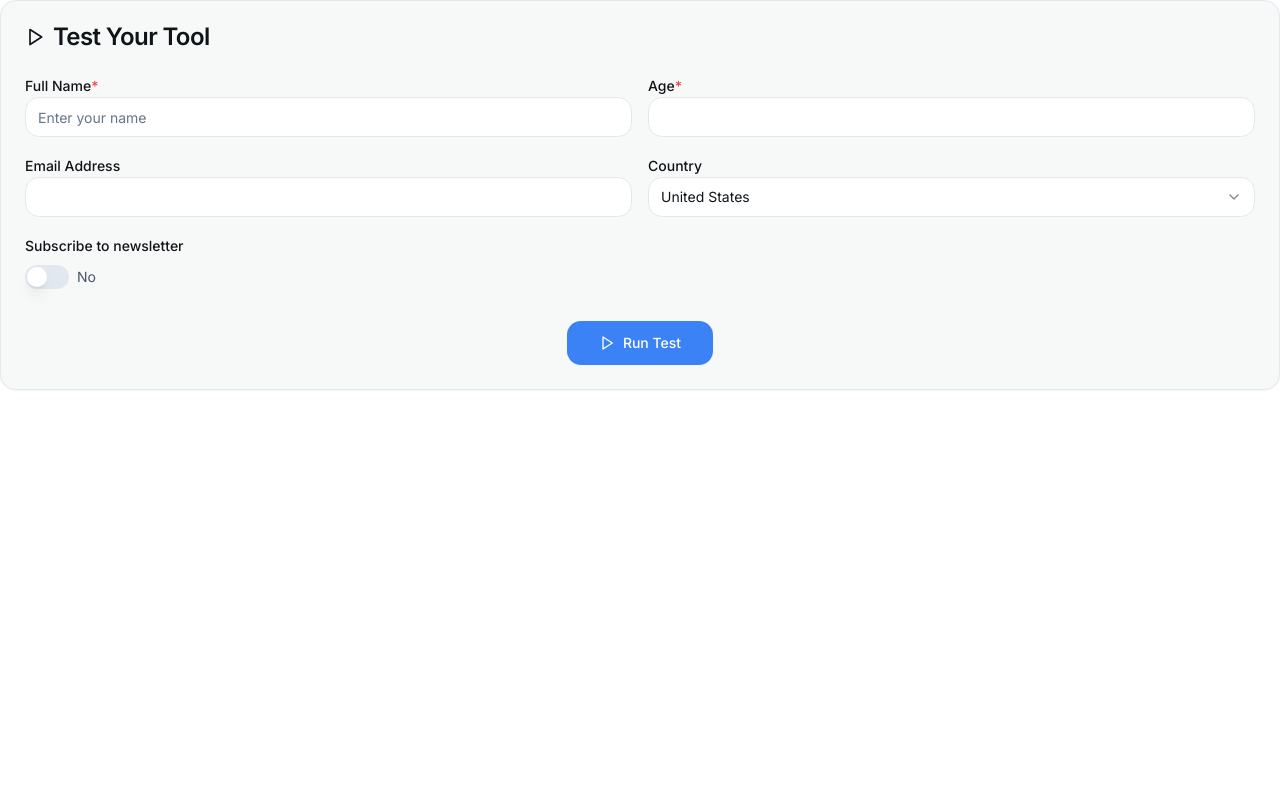
Test case: ToolTestRunner › Test Execution › should handle test failures gracefully
// Fill required fields
Type "John Doe" into the field with placeholder "Enter your name" at (328, 117), box [25,97,632,137]
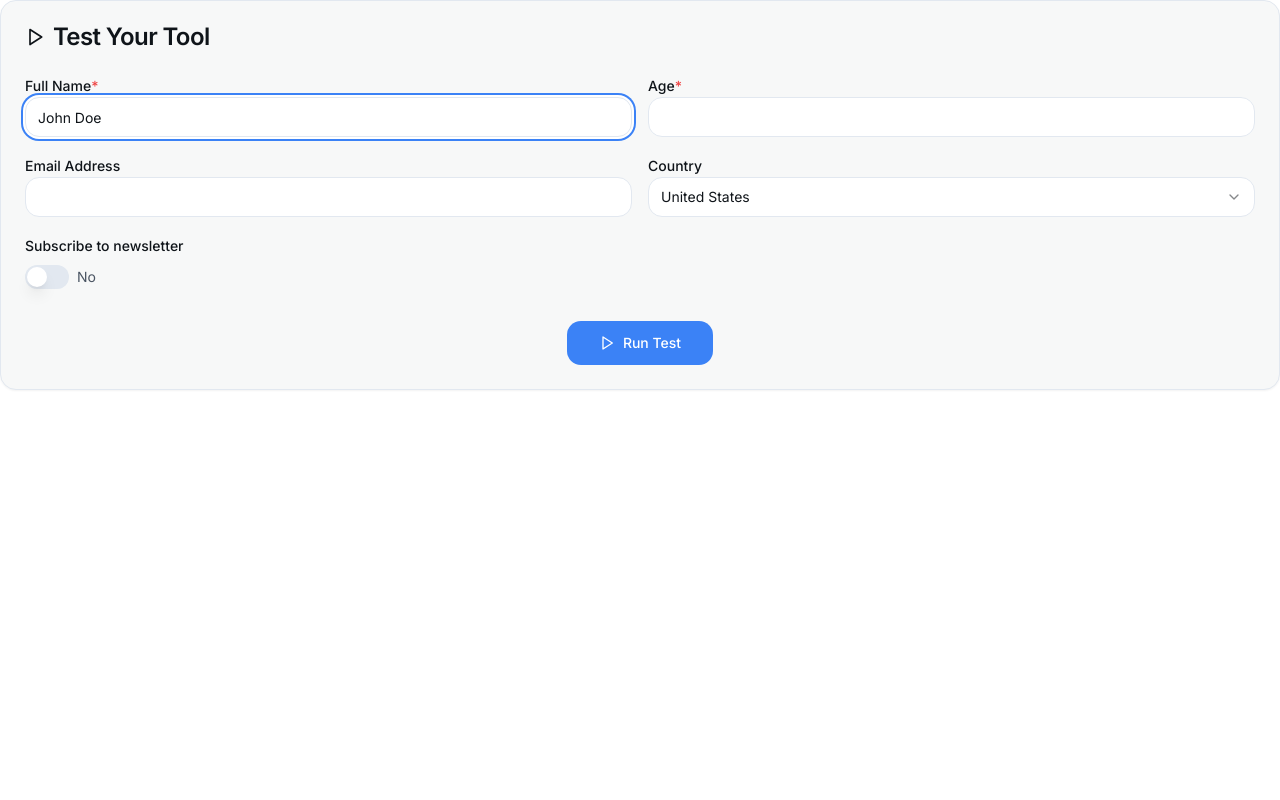
Type "25" into the number field at (952, 117), box [648,97,1255,137]
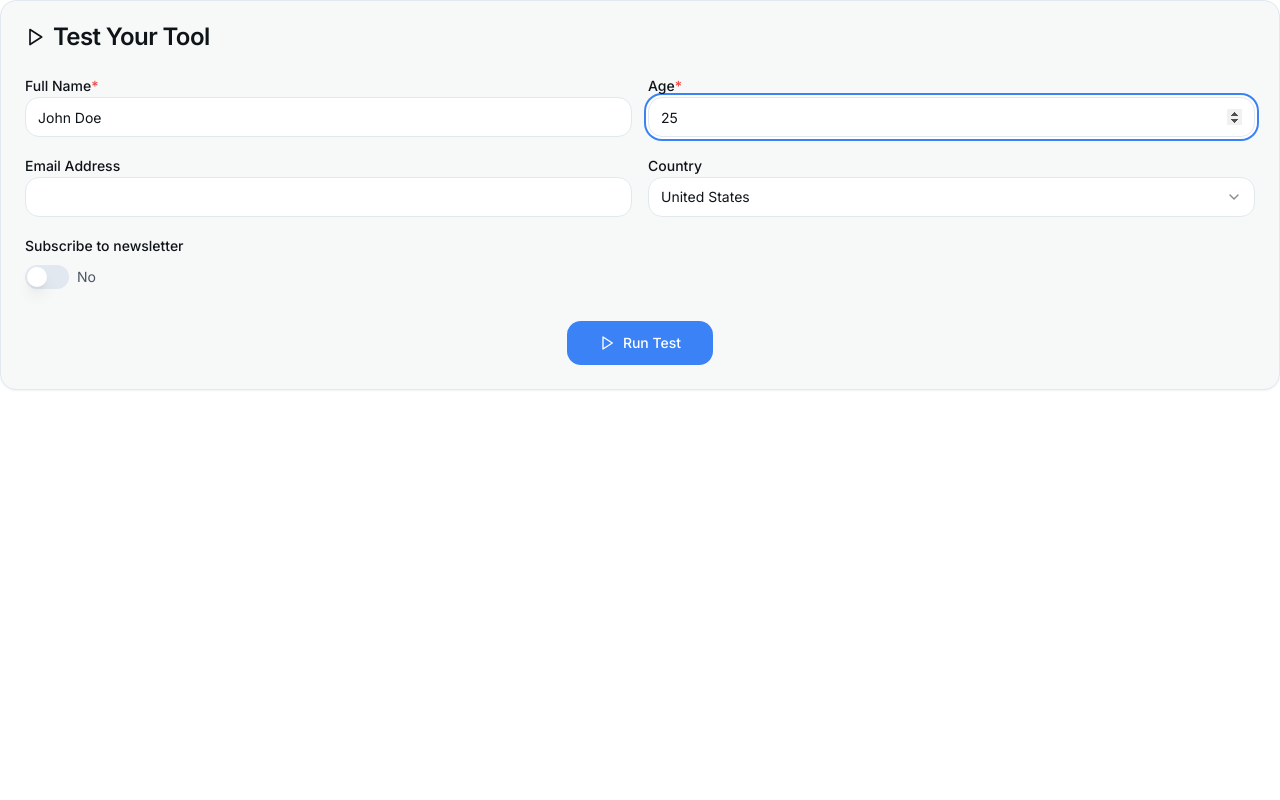
Click the button "Run Test" at (640, 343), box [567,321,713,365]
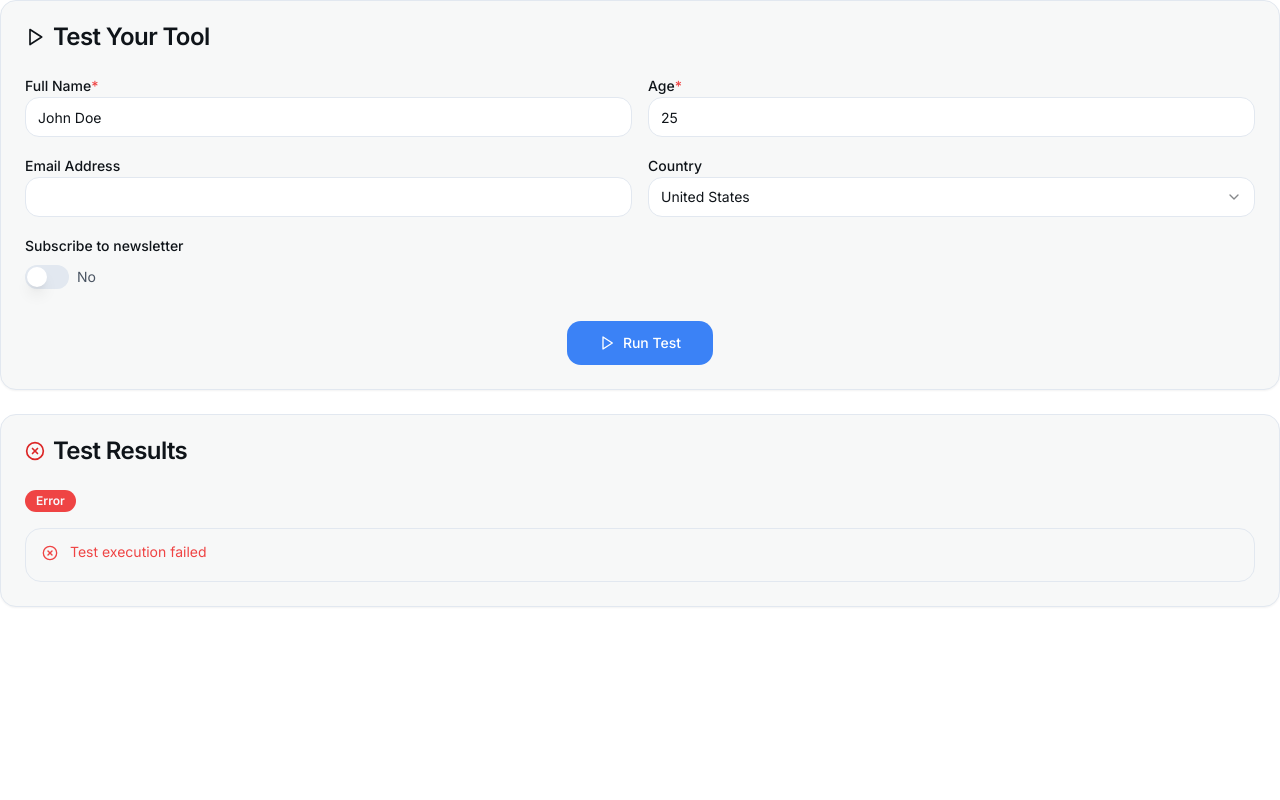
Now the text "Test execution failed" is shown, box [70,543,206,560]
